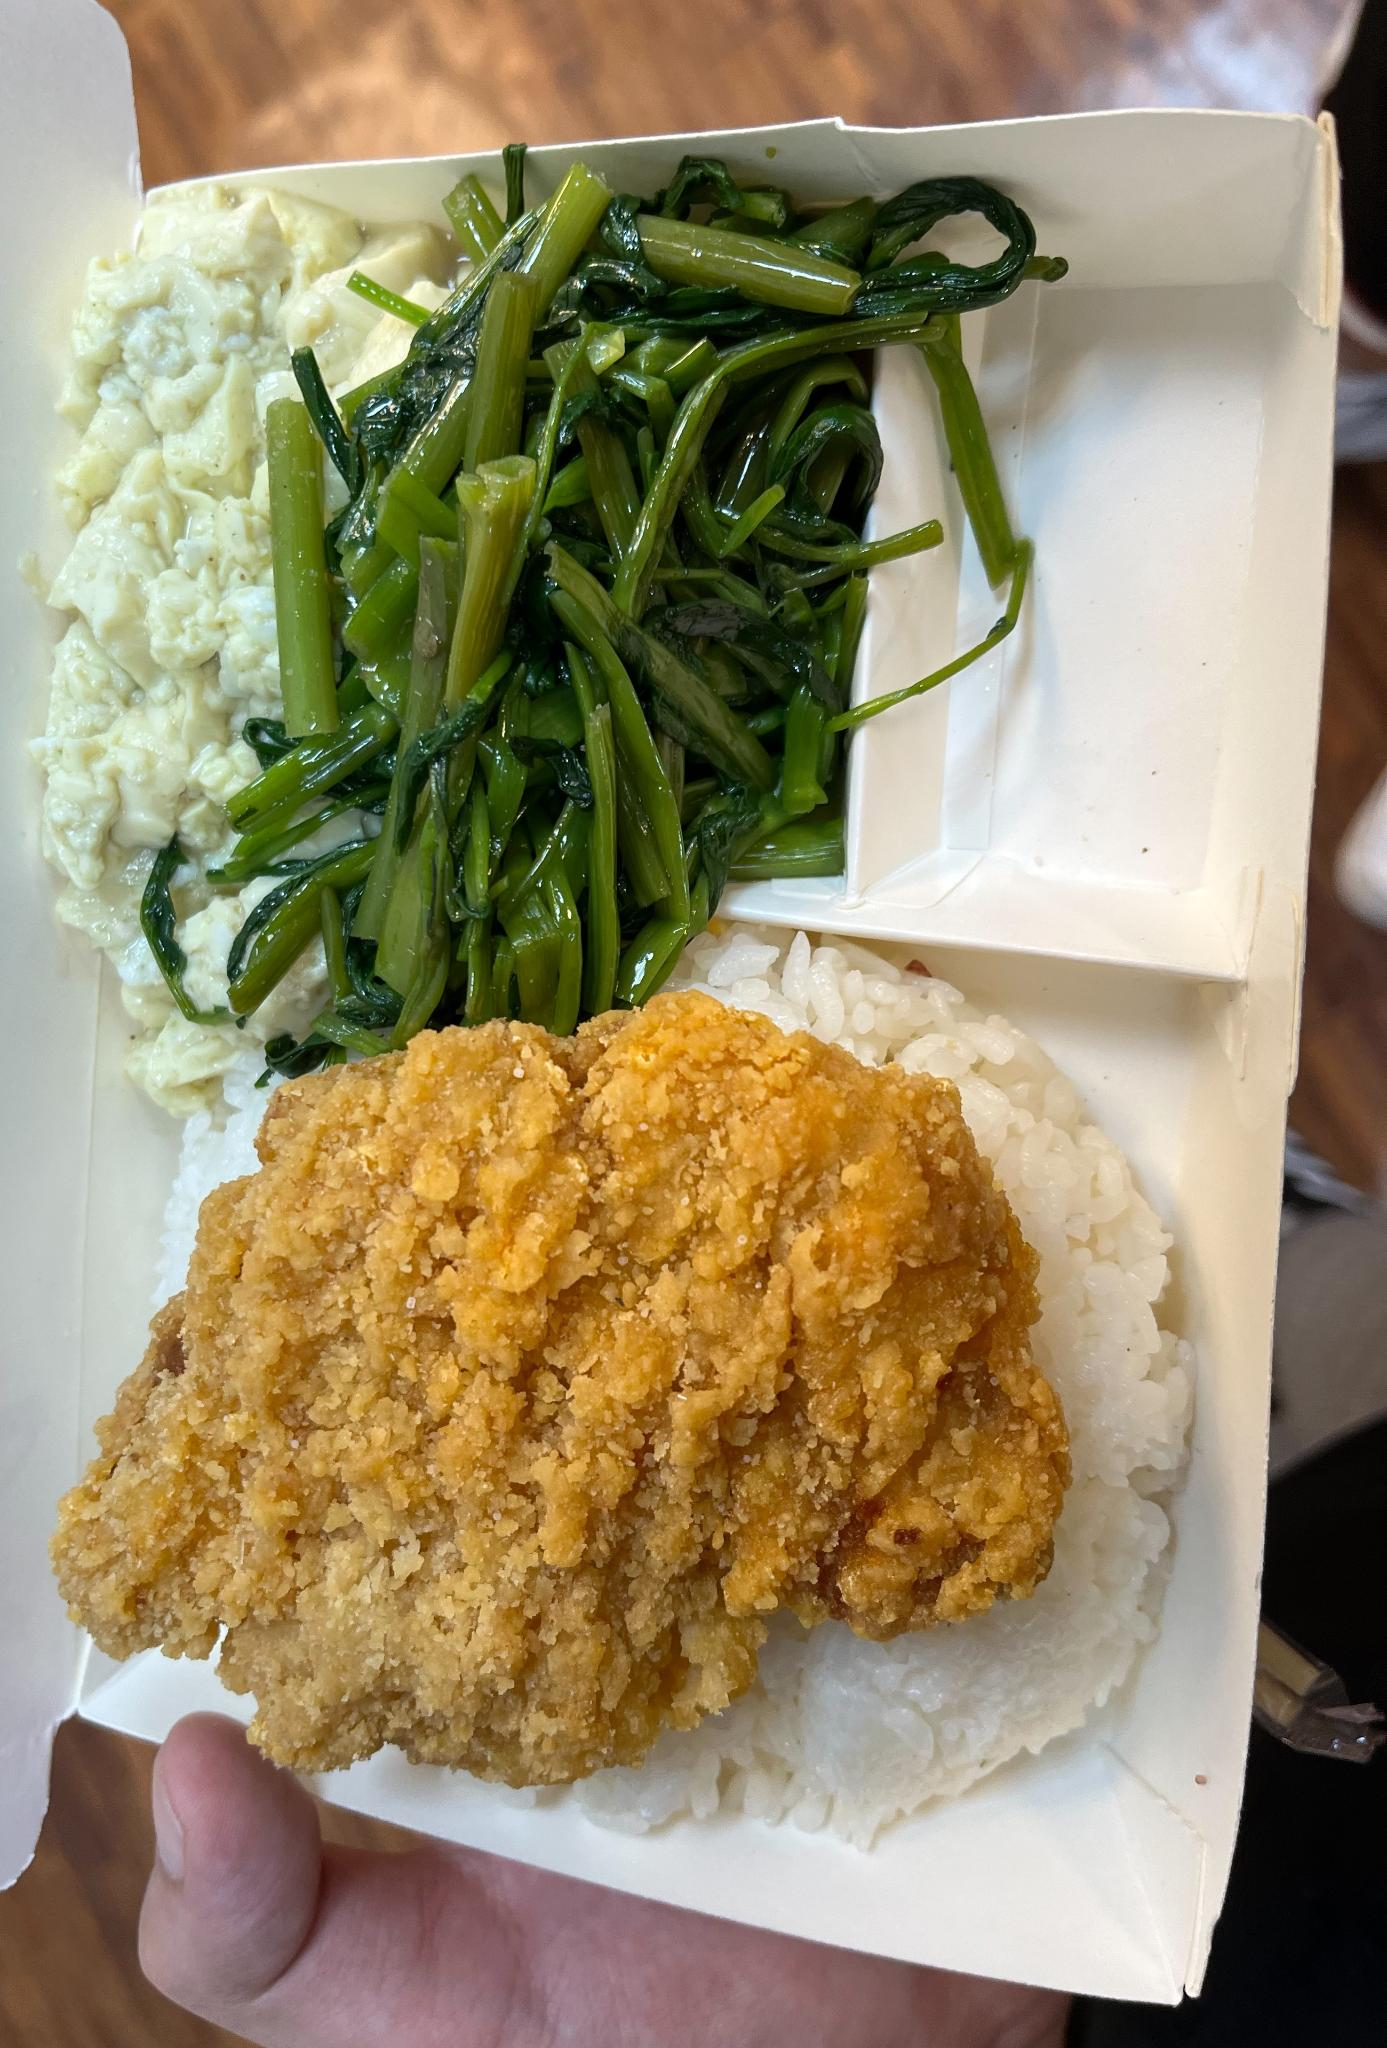big grilled chicken leg: (53, 28, 1384, 2033)
big herbal chicken leg: (142, 927, 1214, 1828)
braised fish fillet: (223, 135, 929, 1039), (43, 146, 449, 995)
braised pork: (53, 986, 1068, 1797)
